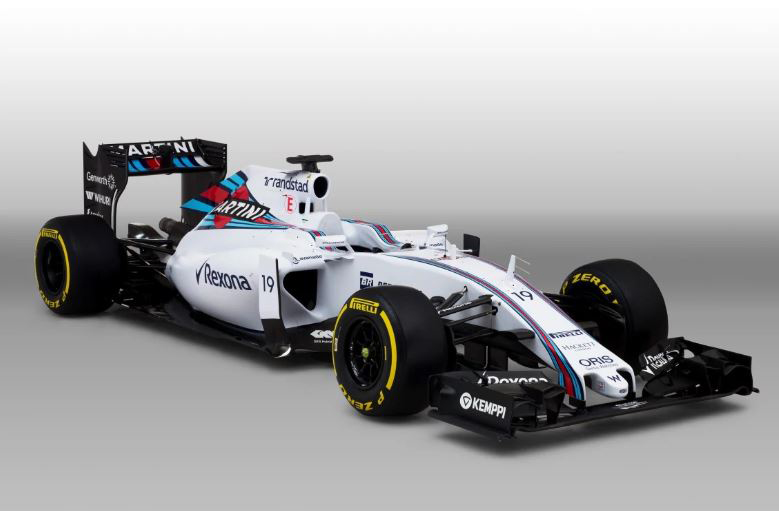F1 Car: (31, 132, 767, 446)
